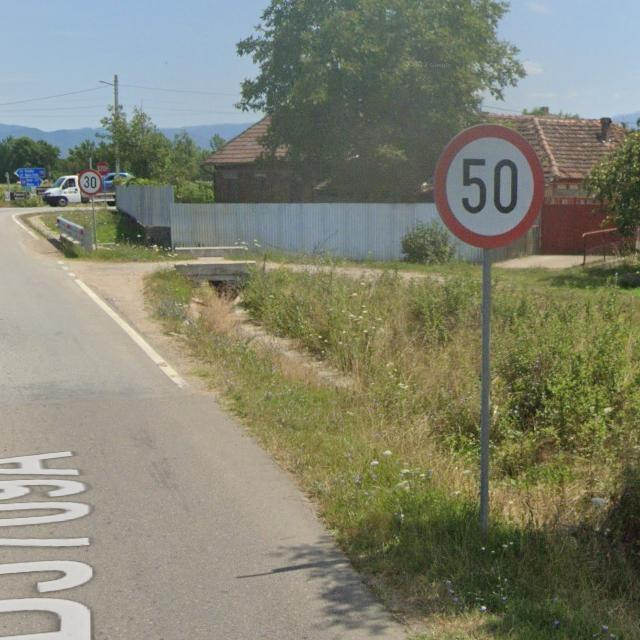forb_speed_over_30: (79, 170, 102, 196)
forb_speed_over_50: (433, 122, 545, 249)
